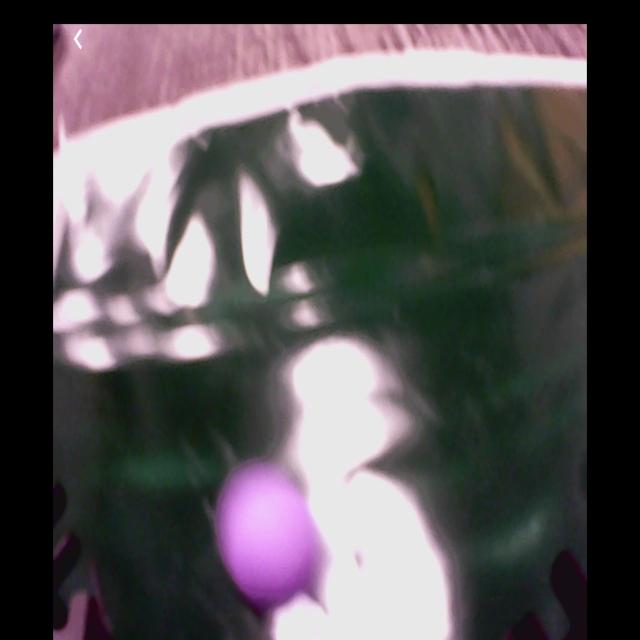ball: (218, 457, 315, 610)
